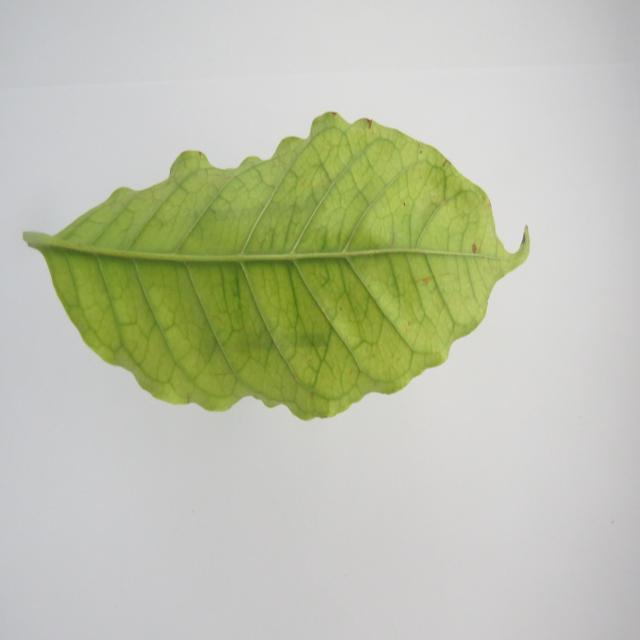DeficienciaNutricional-Calcio: (24, 113, 529, 418)
